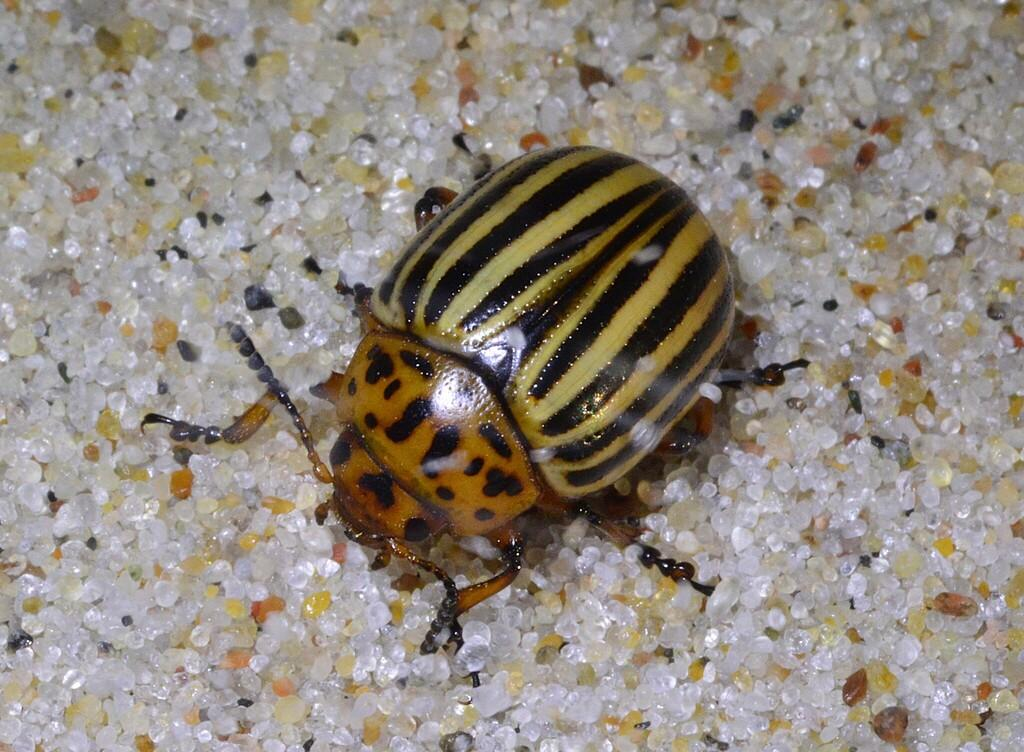potato_beetle: (113, 107, 884, 711)
